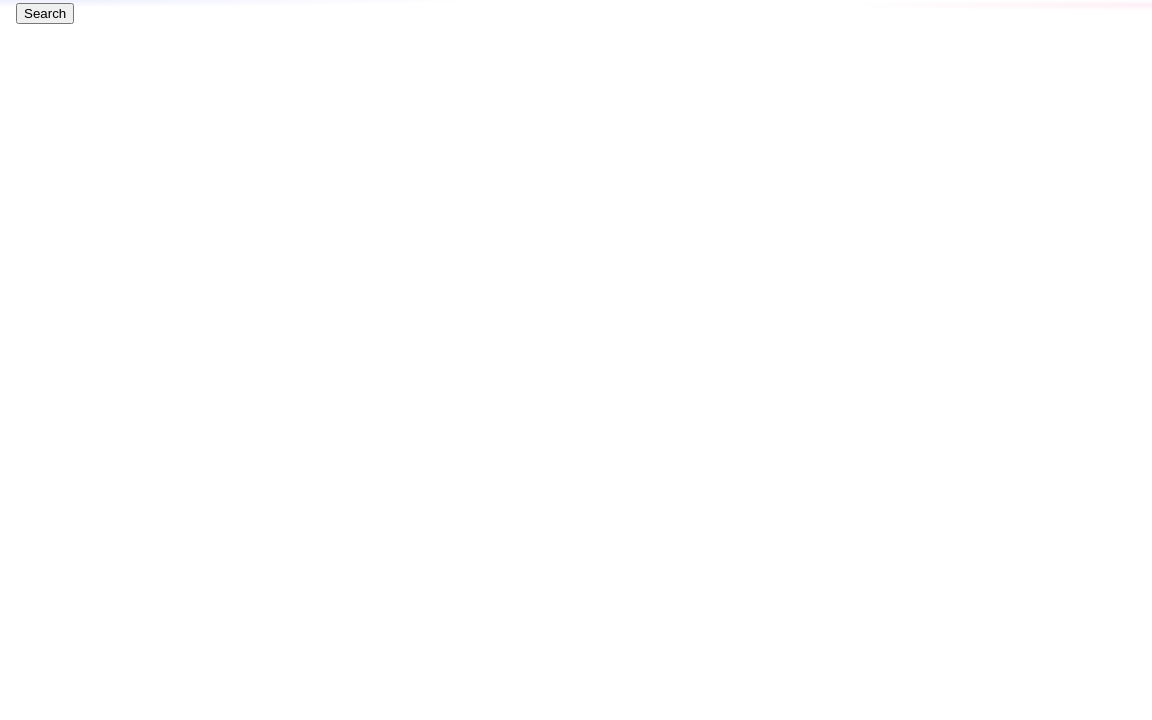
Test case: CommandPalette › opens on Ctrl+K in a portal, filters, runs on Enter
This screenshot has width=1152, height=720.
Press k
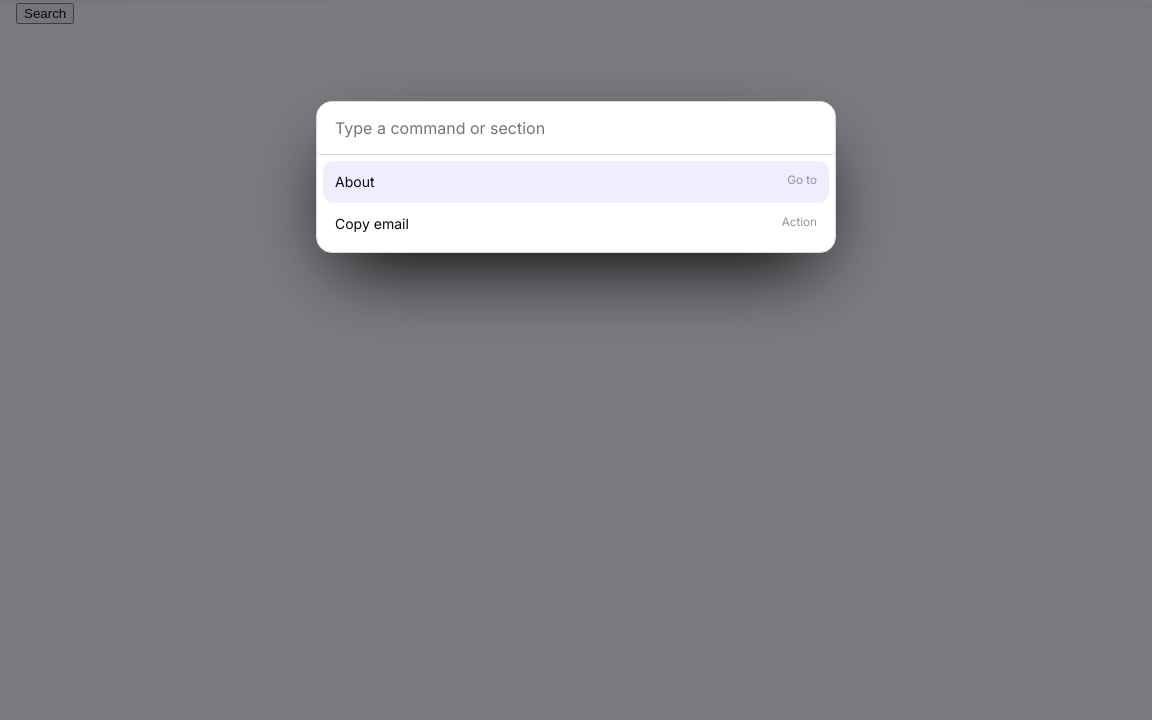
Type "copy" into the dropdown at point(576, 128), box x1=317 y1=102 x2=835 y2=155
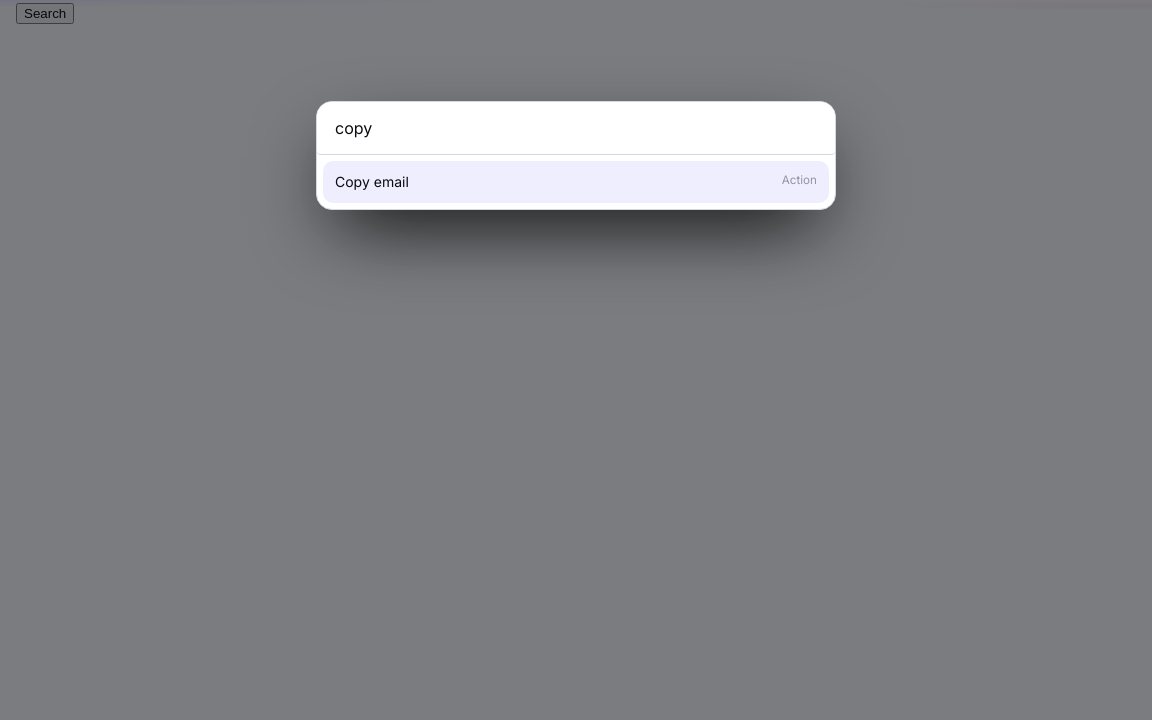
Now the option "About" is gone
Press Enter in the dropdown, box x1=317 y1=102 x2=835 y2=155
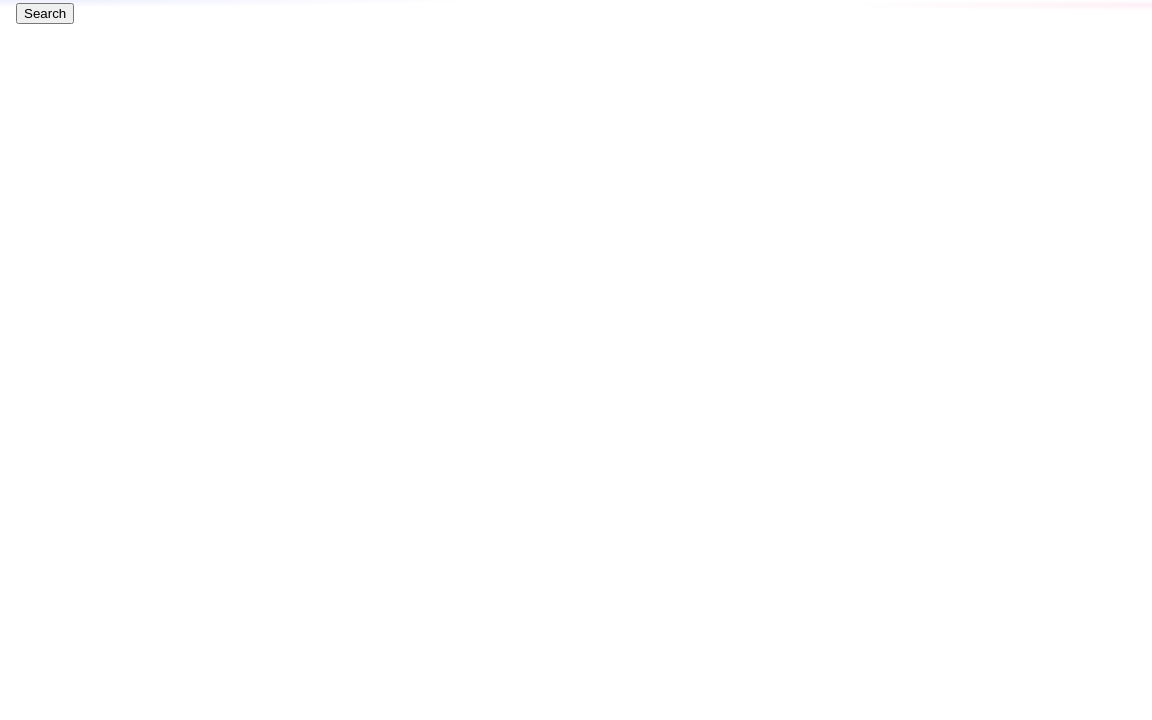
Now the dialog is gone
